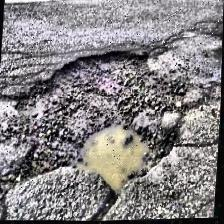pothole: (0, 42, 192, 224)
